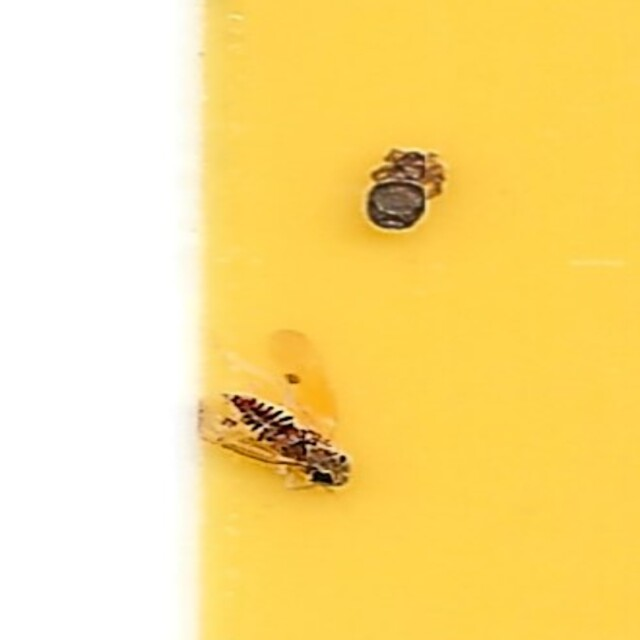Araneae: (359, 144, 446, 232)
Hemiptera: (194, 333, 357, 496)
